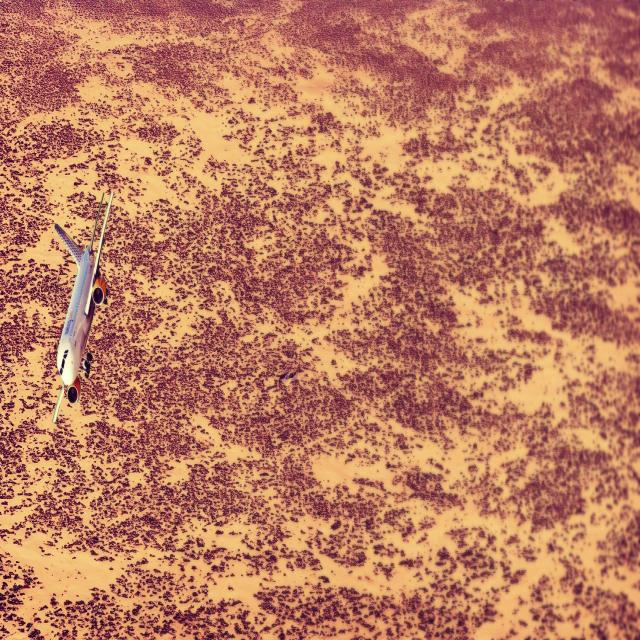airplane: (51, 189, 114, 423)
